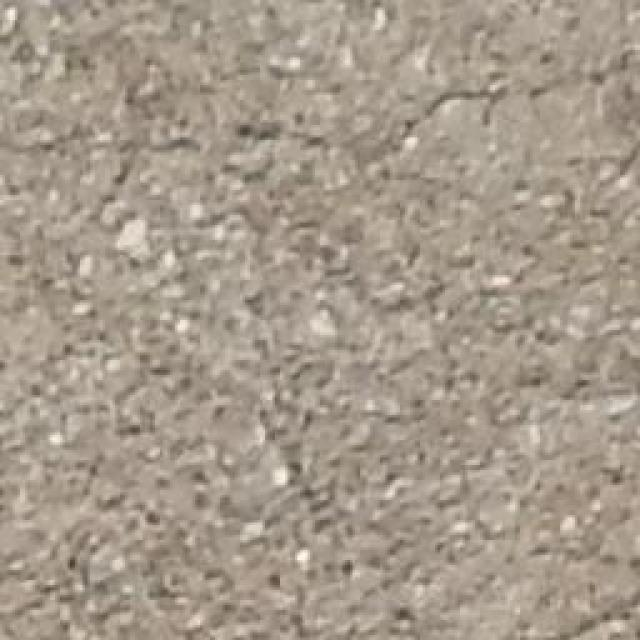concrete-crack: (47, 51, 640, 166)
